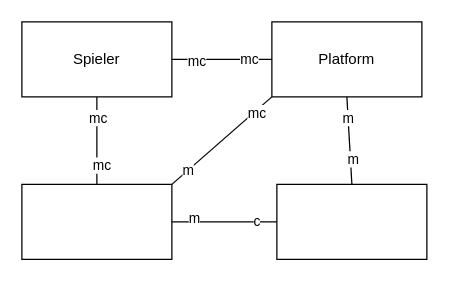
Image size: 449x281. Some labels were removed from this diagram. Here are the shapes that lost their labels. From the top down, the centre of each, then its label:
At point 96,221: "Spiel".
At point 351,221: "Genre".
